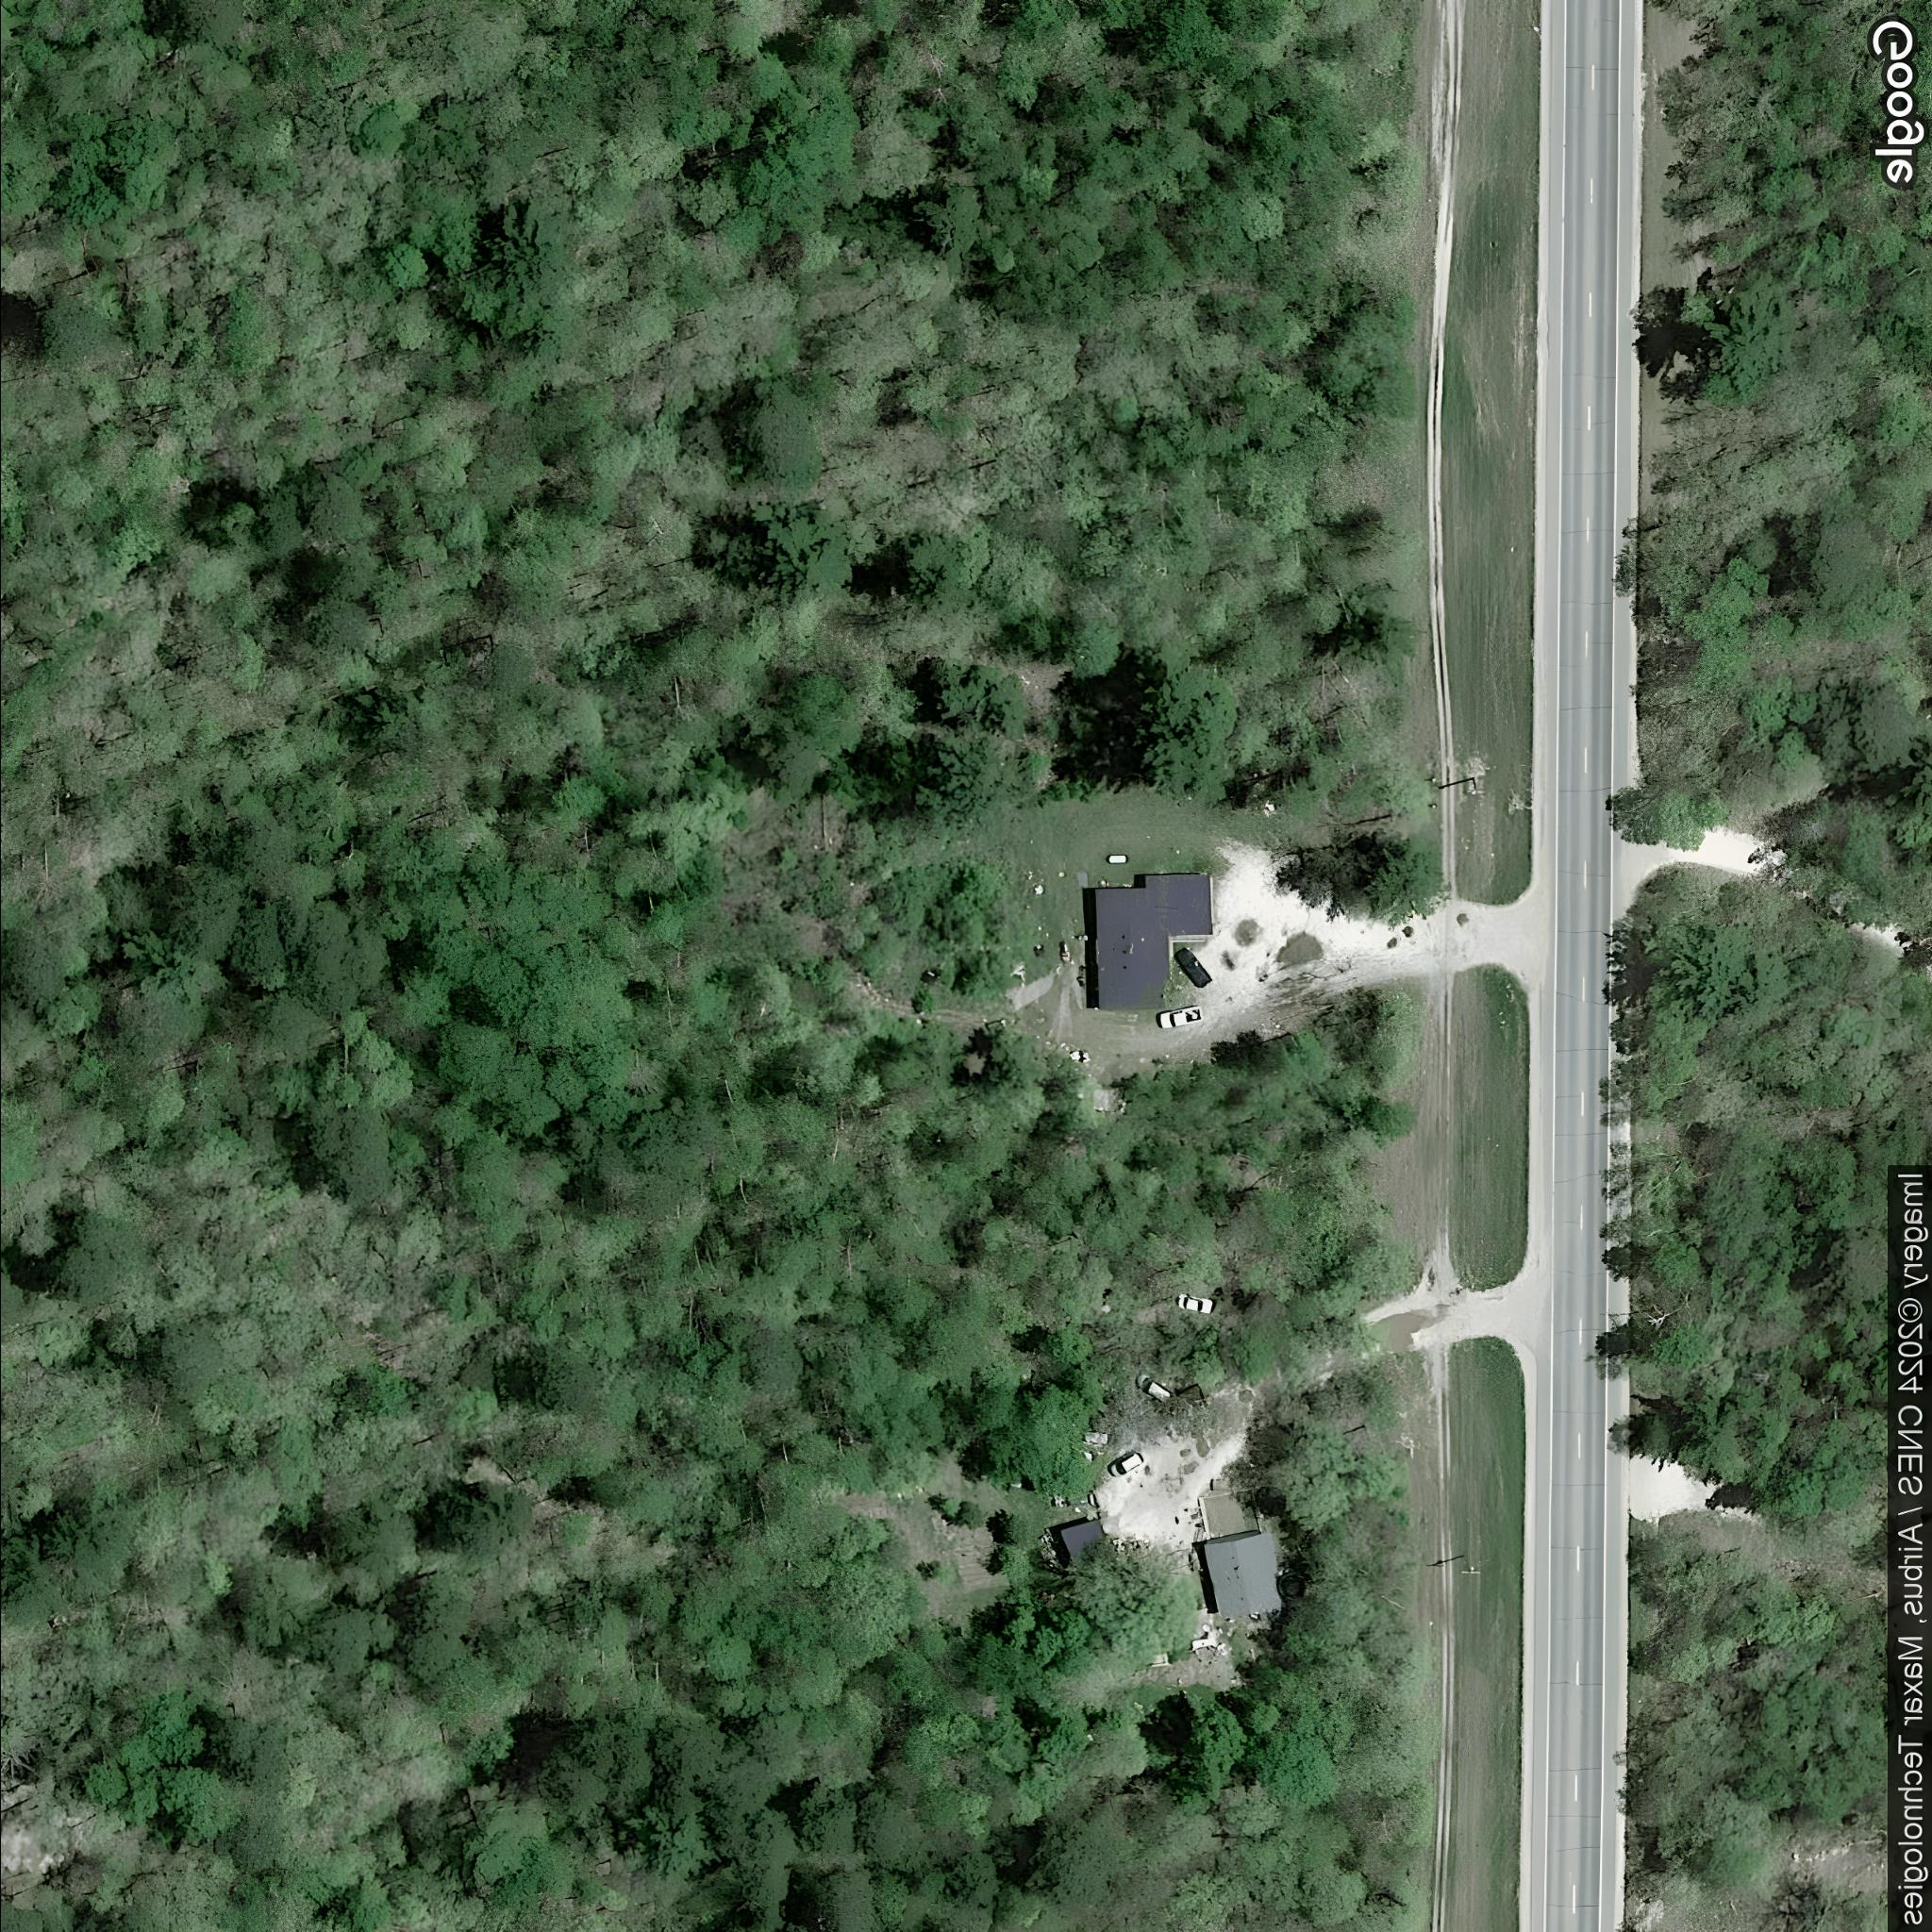Garage: (1054, 1511, 1116, 1571)
House: (1092, 867, 1215, 1012), (1200, 1529, 1286, 1619)
Propane: (1104, 851, 1131, 867)
